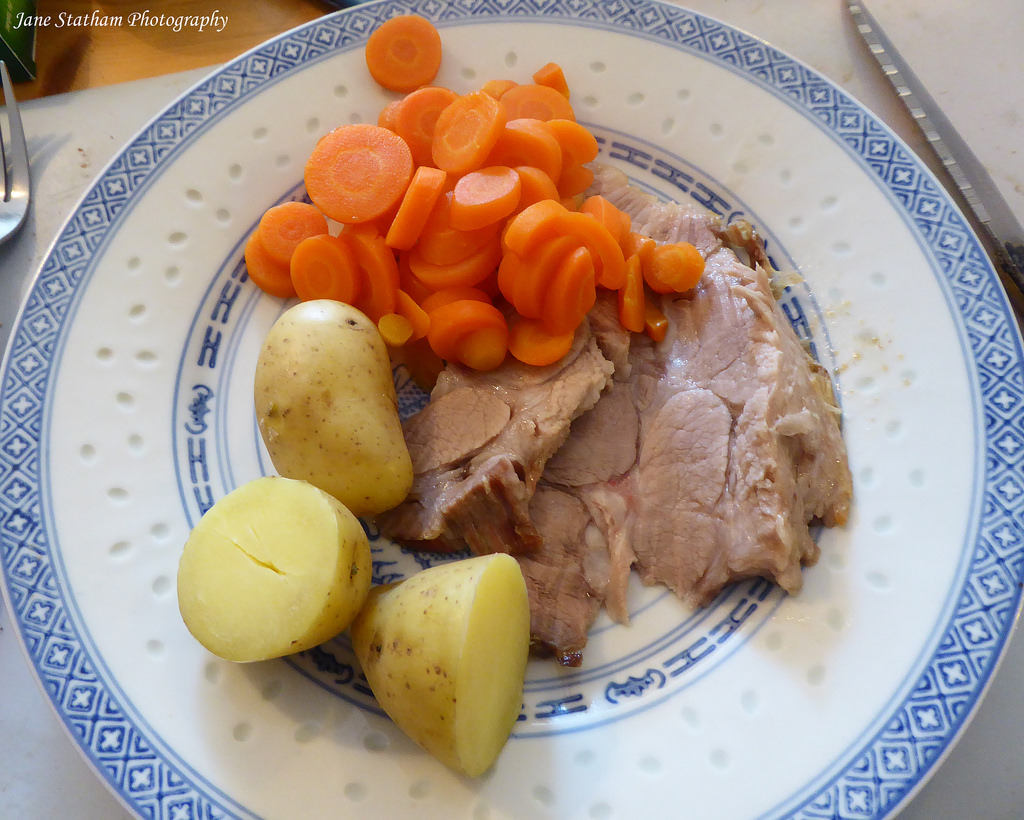boiled potatoes: (159, 473, 380, 666), (356, 567, 540, 789), (256, 295, 414, 515)
